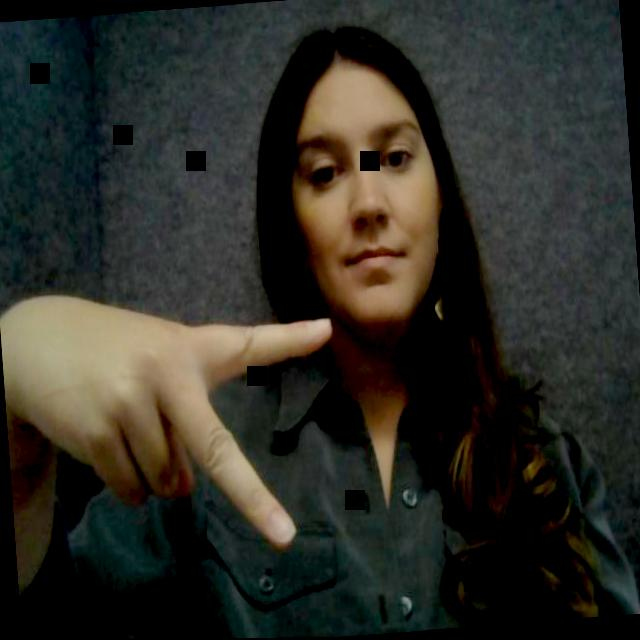Scissors: (0, 263, 396, 569)
